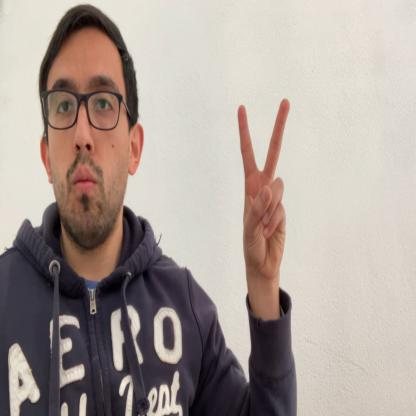V: (238, 98, 290, 277)
